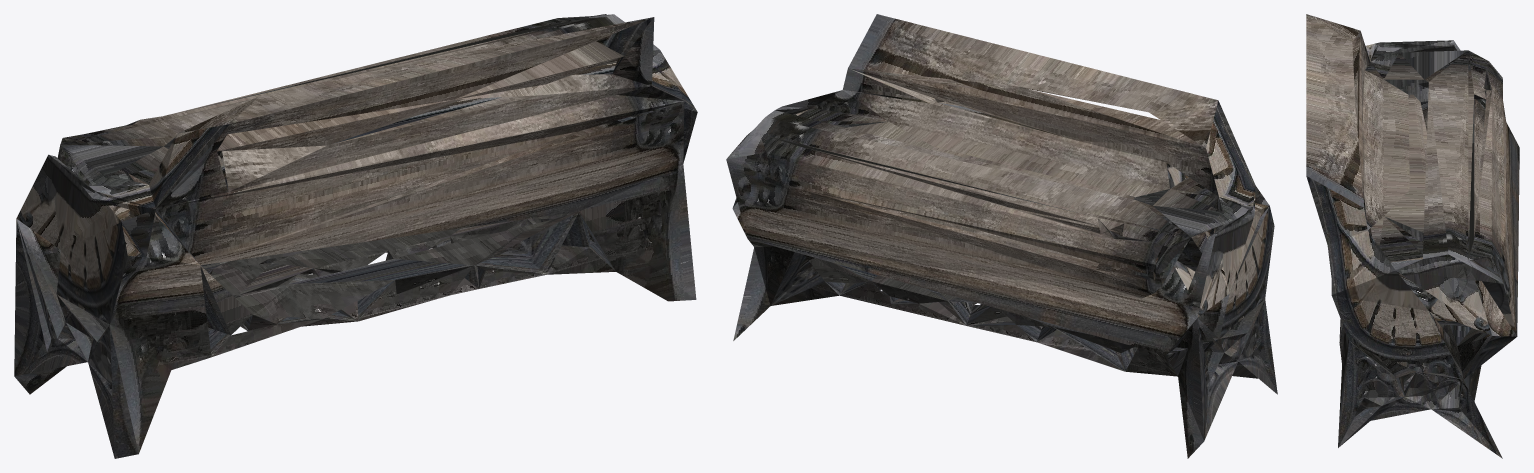
File: bench_high.glb
The picture shows the model from 3 angles, left to right: view 1: azimuth 30°, elevation 25°; view 2: azimuth 150°, elevation 25°; view 3: azimuth 270°, elevation 25°; orthographic projection. The views are drawn at different scales.
Visible parts, largest first — view 1: bench_high; view 2: bench_high; view 3: bench_high.
Boxes of the visible parts, box(x1,y1,x2,y2) form: bench_high: box(14, 14, 697, 458); bench_high: box(726, 14, 1277, 458); bench_high: box(1306, 14, 1519, 458).
Size of the model in its own units: 1.57 by 0.8766 by 0.6241.
Materials: 1 (1 with a texture image).
